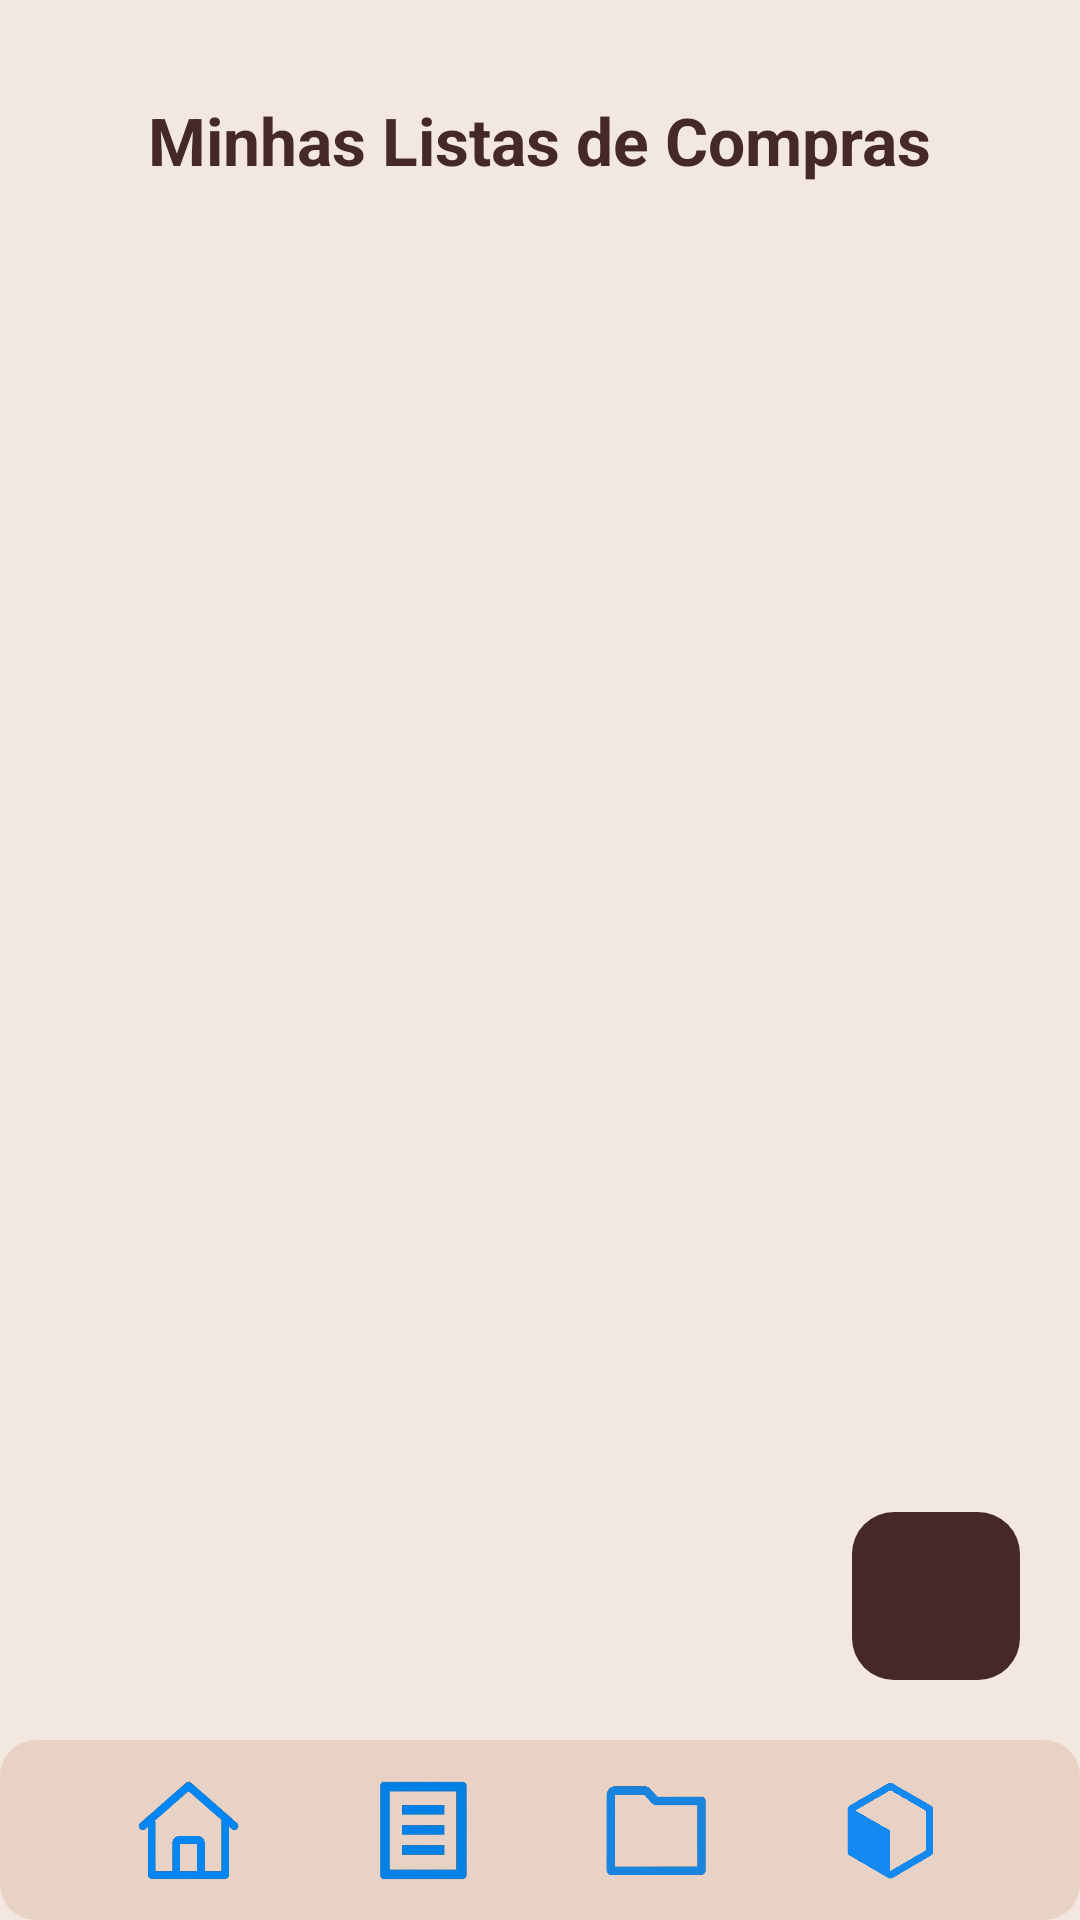

Screen size 1080 × 1920. Icon name, then its center in pixels as (x,y):
caixa: (890,1831)
home: (189,1830)
lista: (423,1830)
pasta: (656,1830)
